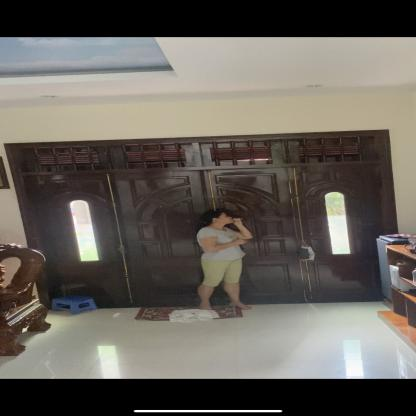cigarette: (232, 218, 244, 221)
person: (194, 208, 254, 315)
